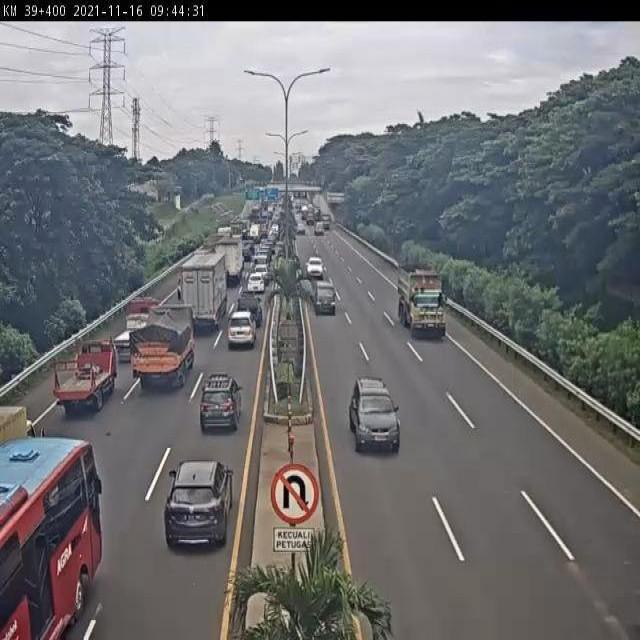car: (164, 460, 234, 549), (349, 378, 400, 451), (200, 371, 244, 429), (227, 314, 257, 350), (235, 296, 262, 332), (312, 280, 338, 316), (247, 274, 266, 294)
small truck: (55, 338, 117, 413), (111, 300, 162, 363)
truck-l-: (397, 263, 449, 337), (178, 255, 225, 333)
truck-m-: (132, 308, 197, 393), (212, 236, 244, 284)
